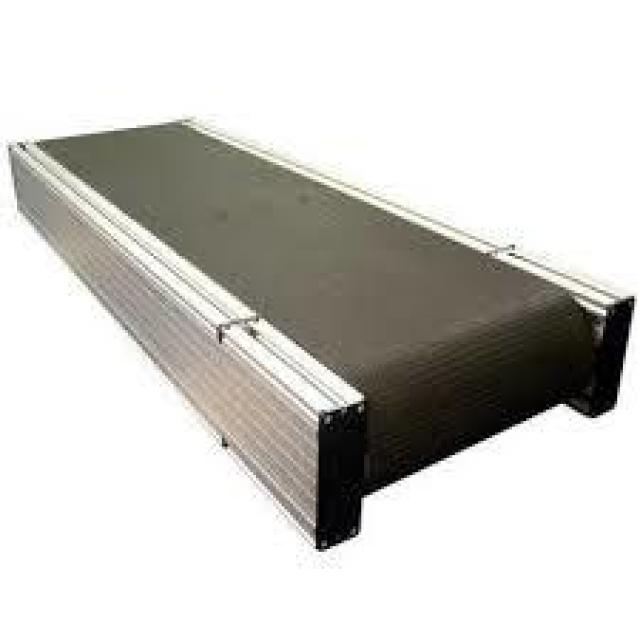conveyor: (8, 84, 630, 581)
